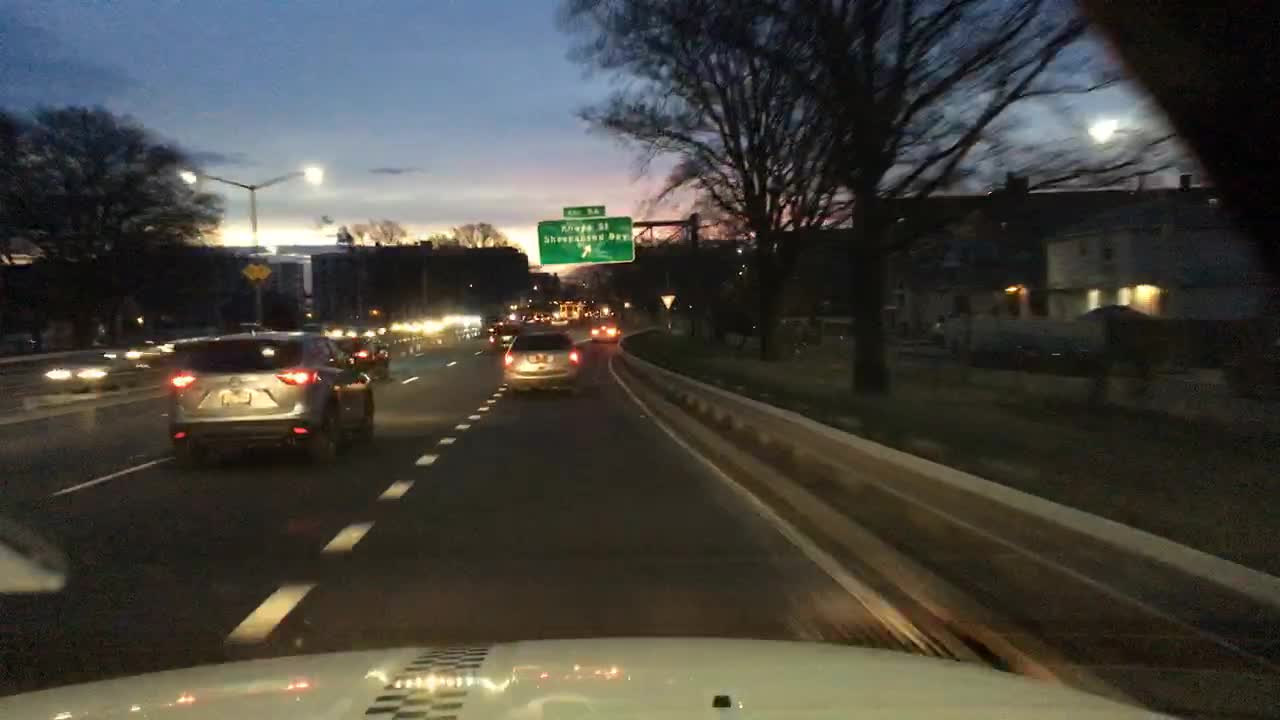bus: (559, 304, 579, 319)
car: (163, 332, 376, 467), (499, 327, 581, 392), (29, 352, 140, 388), (329, 336, 392, 380), (100, 341, 175, 366), (586, 318, 619, 345), (485, 325, 518, 352), (481, 318, 518, 332), (411, 317, 436, 332), (390, 318, 411, 332), (443, 313, 464, 324), (533, 311, 547, 322)
traffic sign: (536, 219, 635, 262), (560, 205, 607, 217), (242, 261, 270, 279), (661, 293, 676, 309)
